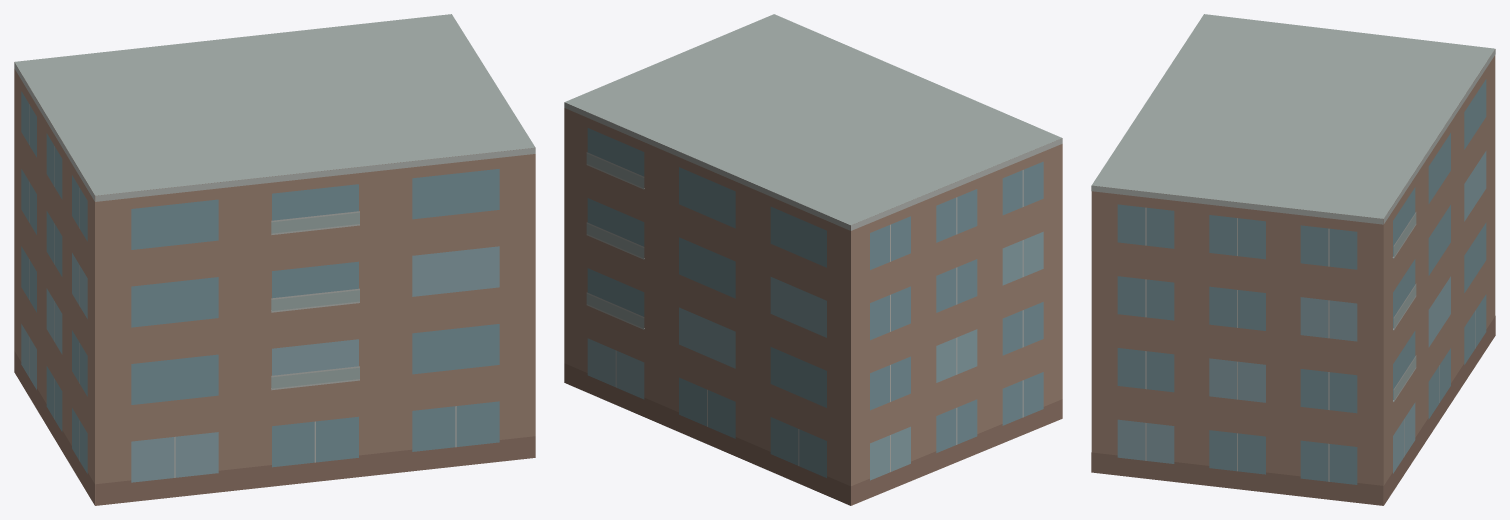
The model's file is survey-upis-32580498.glb.
3 views of the same model, side by side, from view 1: azimuth 30°, elevation 25°; view 2: azimuth 150°, elevation 25°; view 3: azimuth 270°, elevation 25° (orthographic). The views are drawn at different scales.
Parts seen in each view (by area): view 1: survey-upis-32580498.tmp; view 2: survey-upis-32580498.tmp; view 3: survey-upis-32580498.tmp.
Boxes of the visible parts, bbox=[...] form: survey-upis-32580498.tmp: bbox=[14, 14, 535, 505]; survey-upis-32580498.tmp: bbox=[564, 14, 1062, 505]; survey-upis-32580498.tmp: bbox=[1091, 14, 1495, 505].
Size of the model in its own units: 18.69 by 12.2 by 15.58.
